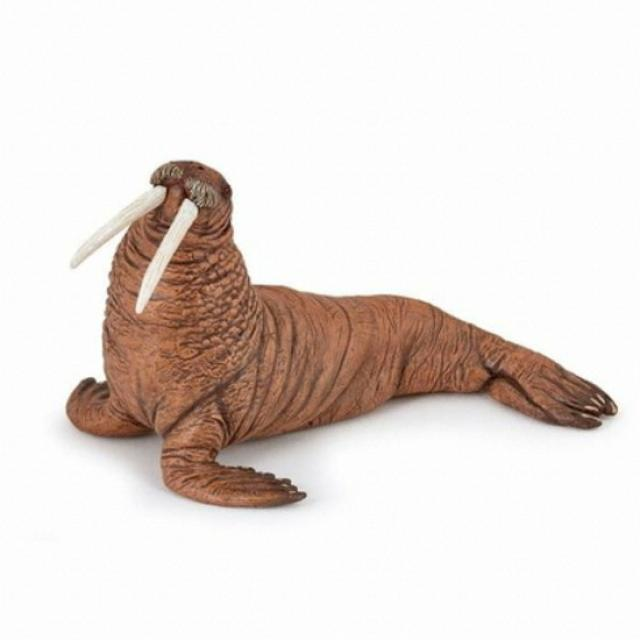walrus: (16, 125, 618, 531)
